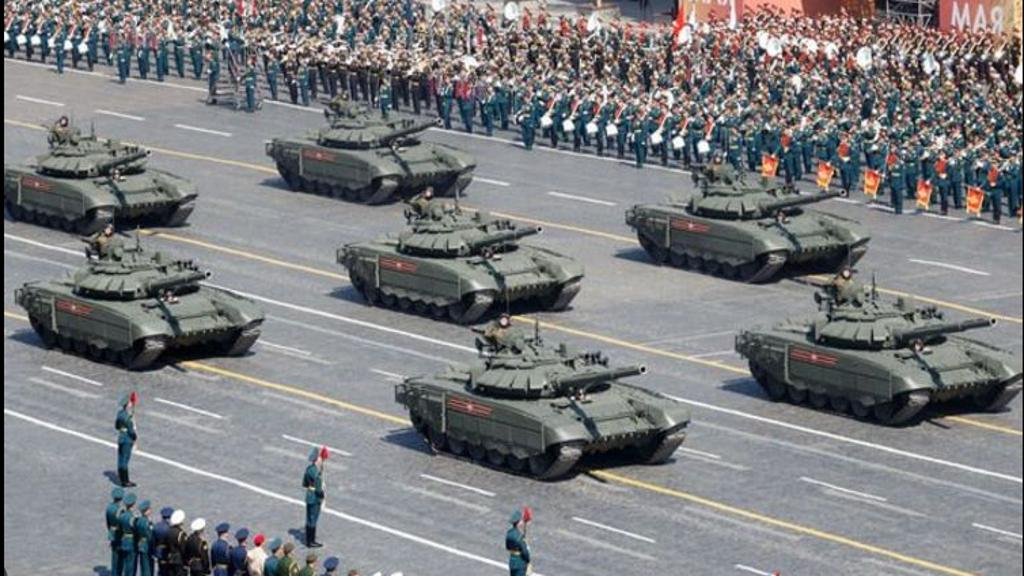TANK: (397, 318, 686, 483), (738, 273, 1022, 426), (14, 239, 263, 367), (342, 203, 583, 324), (634, 165, 868, 281), (267, 101, 474, 204), (4, 122, 197, 232)
